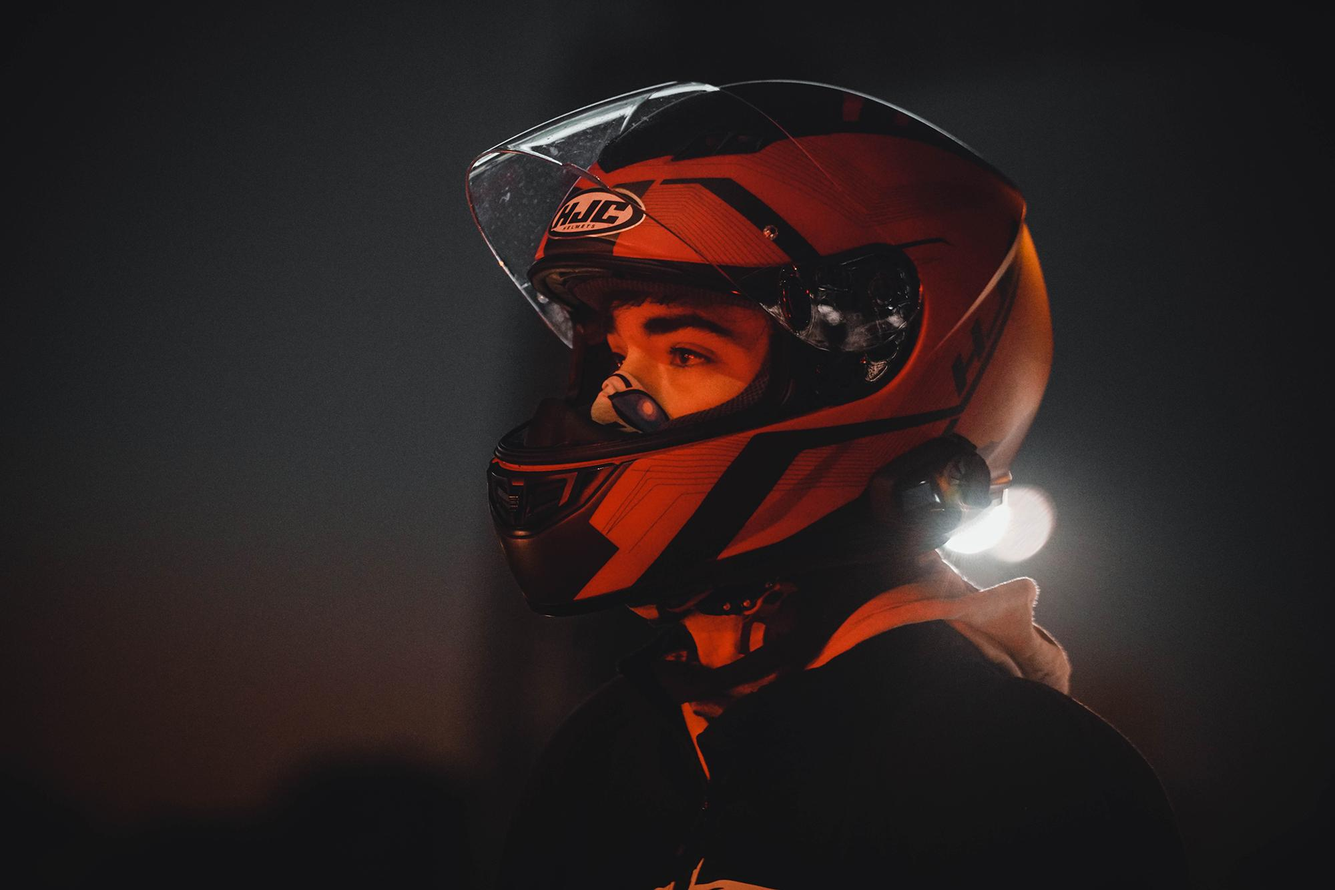helmet: (460, 74, 1058, 624)
